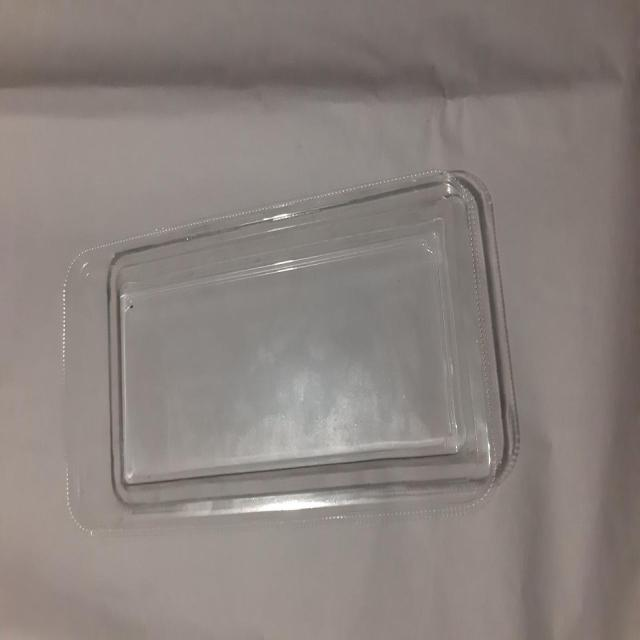KemasanPlastik: (69, 167, 520, 530)
